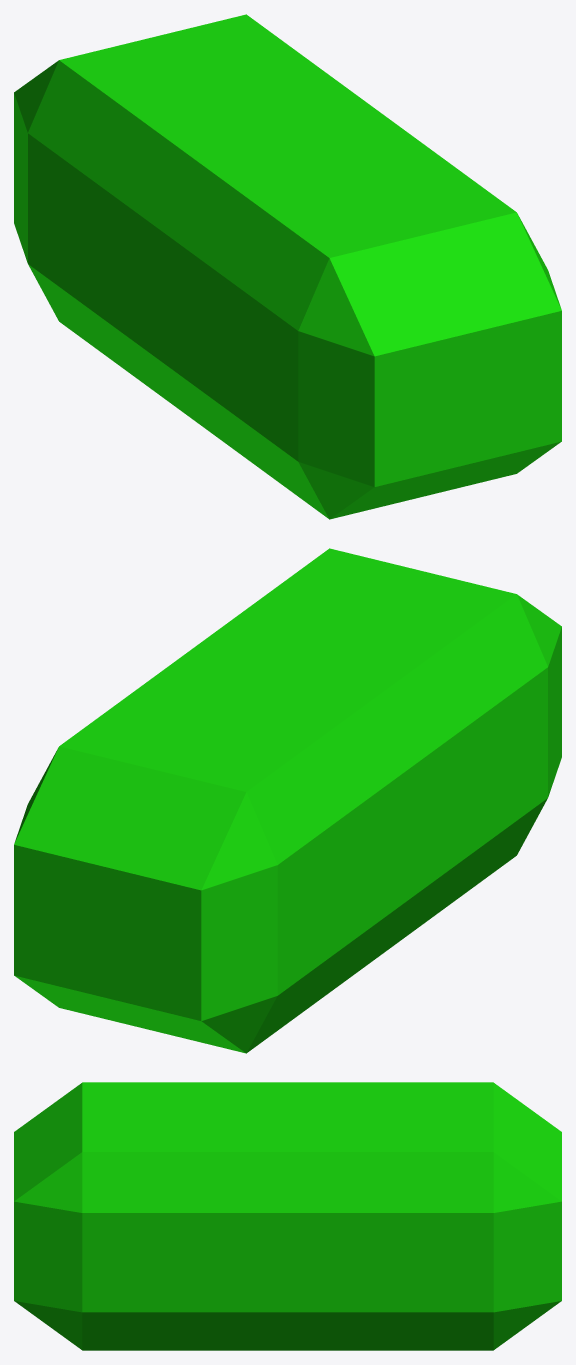
File: Grappling_Hook_Launcher.gltf
The picture shows the model from 3 angles, top to bottom: view 1: azimuth 30°, elevation 25°; view 2: azimuth 150°, elevation 25°; view 3: azimuth 270°, elevation 25°; orthographic projection. The views are drawn at different scales.
Visible parts, largest first — view 1: beveled_cuboid; view 2: beveled_cuboid; view 3: beveled_cuboid.
Boxes of the visible parts, x1,y1,x2,y2 form: beveled_cuboid: (14,14,561,519); beveled_cuboid: (14,548,561,1053); beveled_cuboid: (14,1082,561,1350).
Size of the model in its own units: 0.25 by 0.25 by 0.625.
Materials: 1 (1 with a texture image).
